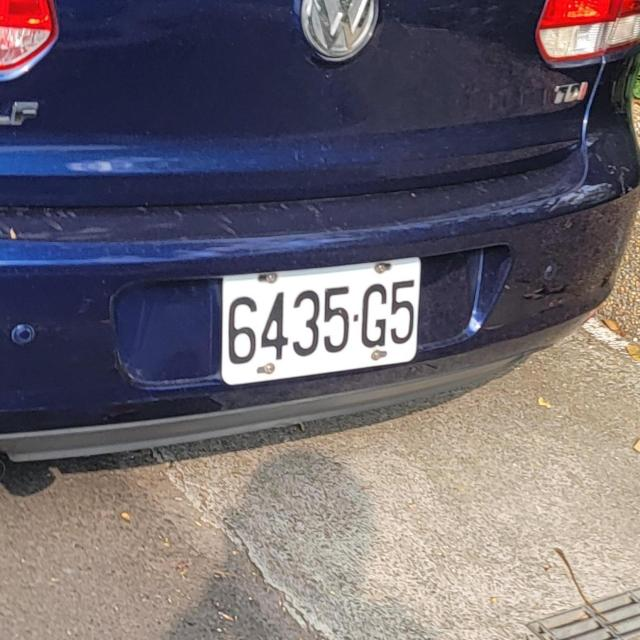W: (214, 247, 428, 391)
